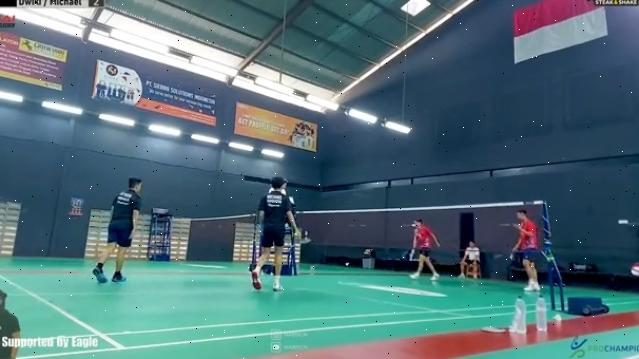Shuttlecock: (343, 260, 353, 268)
